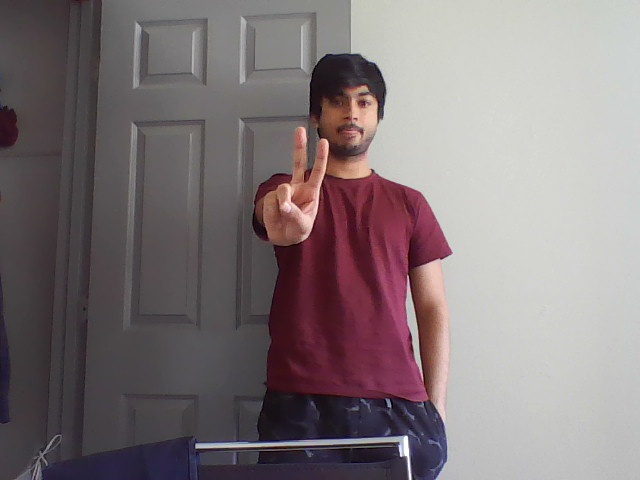two: (288, 124, 336, 200)
